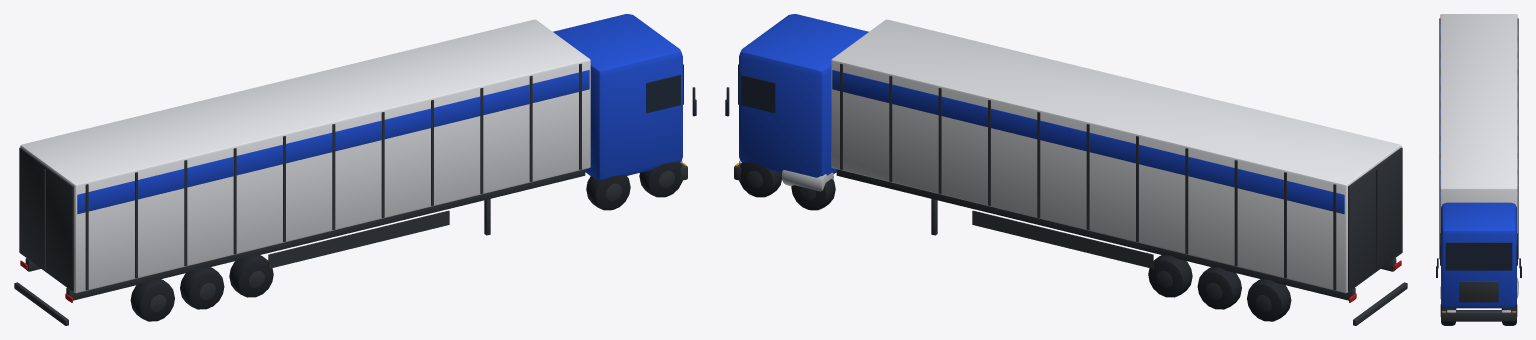
File: truck.glb
3 views of the same model, side by side, from view 1: azimuth 30°, elevation 25°; view 2: azimuth 150°, elevation 25°; view 3: azimuth 270°, elevation 25° (orthographic). The views are drawn at different scales.
Visible parts, largest first — view 1: body; view 2: body; view 3: body.
Boxes of the visible parts, x1,y1,x2,y2 form: body: (14,14,696,325); body: (725,14,1407,325); body: (1436,14,1521,325).
Size of the model in its own units: 16.49 by 4 by 2.82.
